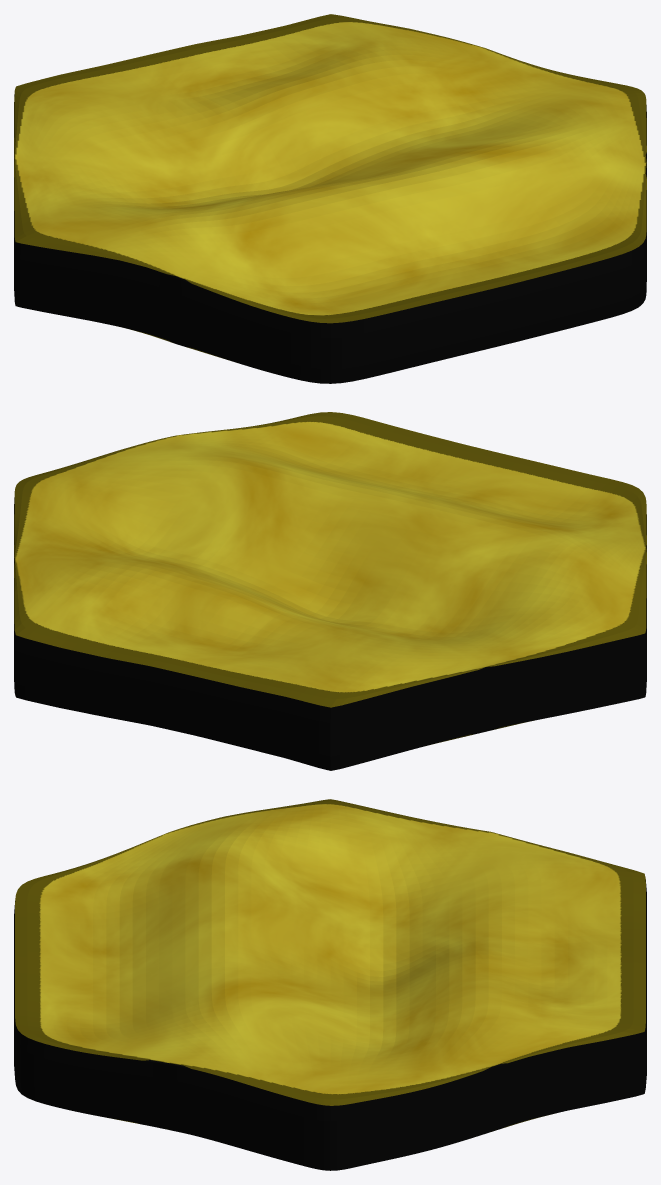
Rendered from hexagonDesert.glb.
3 views of the same model, one above another, from view 1: azimuth 30°, elevation 25°; view 2: azimuth 150°, elevation 25°; view 3: azimuth 270°, elevation 25° (orthographic).
Parts seen in each view (by area): view 1: Okrąg.012; view 2: Okrąg.012; view 3: Okrąg.012.
Boxes of the visible parts, x1,y1,x2,y2 form: Okrąg.012: (14,14,646,383); Okrąg.012: (14,412,646,770); Okrąg.012: (14,799,646,1170).
Bounding box in the file's own units: 1.98 × 0.2867 × 1.73.
Materials: 1 (1 with a texture image).
